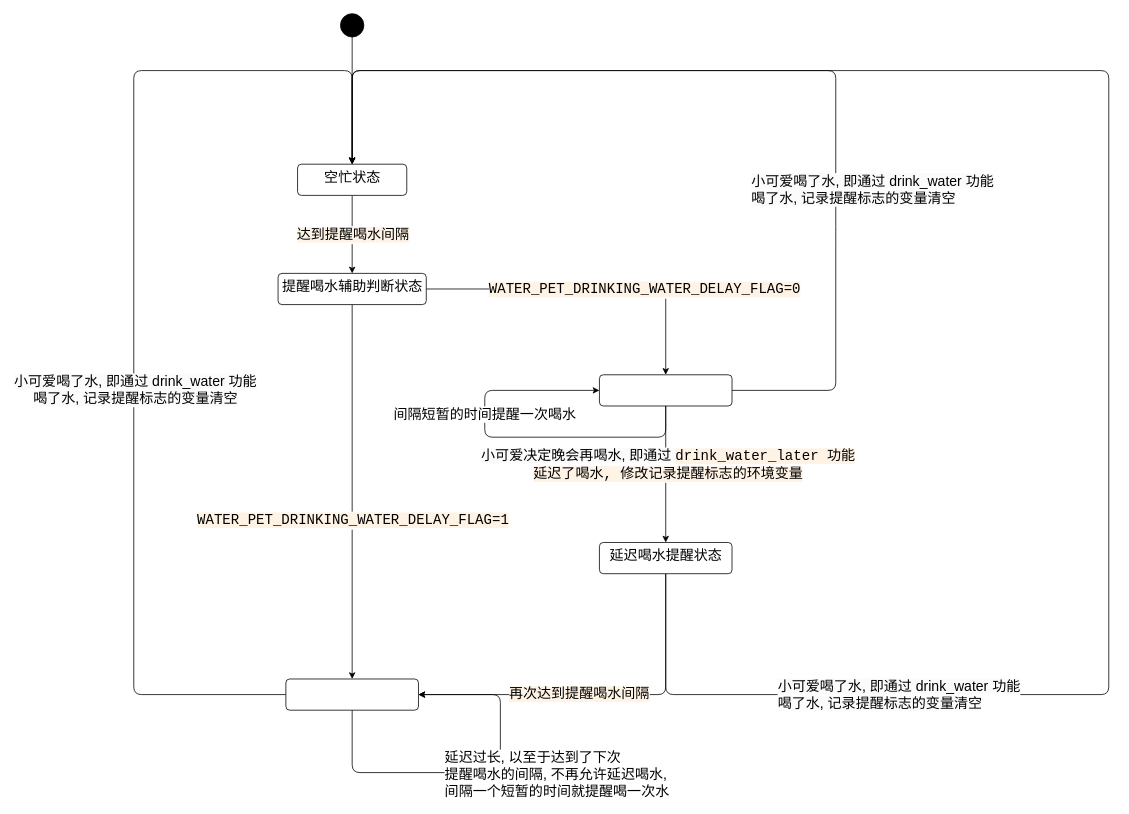
The diagram is 1129 pixels wide and 814 high, and some of its shapes have lost their labels. The centre of each missing label's shape, as x and y in pixels:
强制喝水状态: pixel 351 694
提醒喝水状态: pixel 665 390
